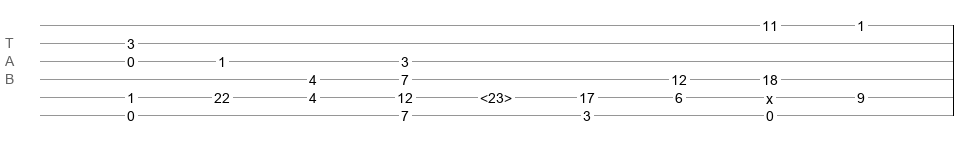0: (127, 108, 135, 118), (127, 54, 135, 64), (766, 108, 774, 118)
1: (127, 90, 135, 100), (218, 54, 226, 64), (857, 18, 865, 28)
11: (762, 18, 778, 28)
12: (397, 90, 413, 100), (671, 72, 687, 82)
17: (579, 90, 595, 100)
18: (762, 72, 778, 82)
22: (214, 90, 230, 100)
3: (127, 36, 135, 46), (401, 54, 409, 64), (583, 108, 591, 118)
4: (309, 72, 317, 82), (309, 90, 317, 100)
6: (675, 90, 683, 100)
7: (401, 108, 409, 118), (401, 72, 409, 82)
9: (857, 90, 865, 100)
harmonic: (480, 90, 512, 100)
x: (766, 91, 773, 99)
